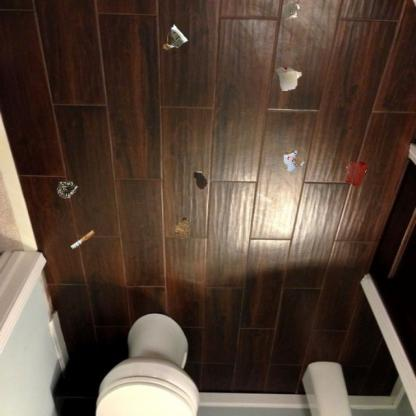dirty: (162, 23, 190, 52), (274, 66, 304, 91), (282, 148, 306, 174), (69, 230, 97, 250), (55, 180, 79, 200), (282, 0, 300, 20), (174, 216, 190, 238)
liquid: (344, 160, 369, 187), (193, 169, 207, 189)
